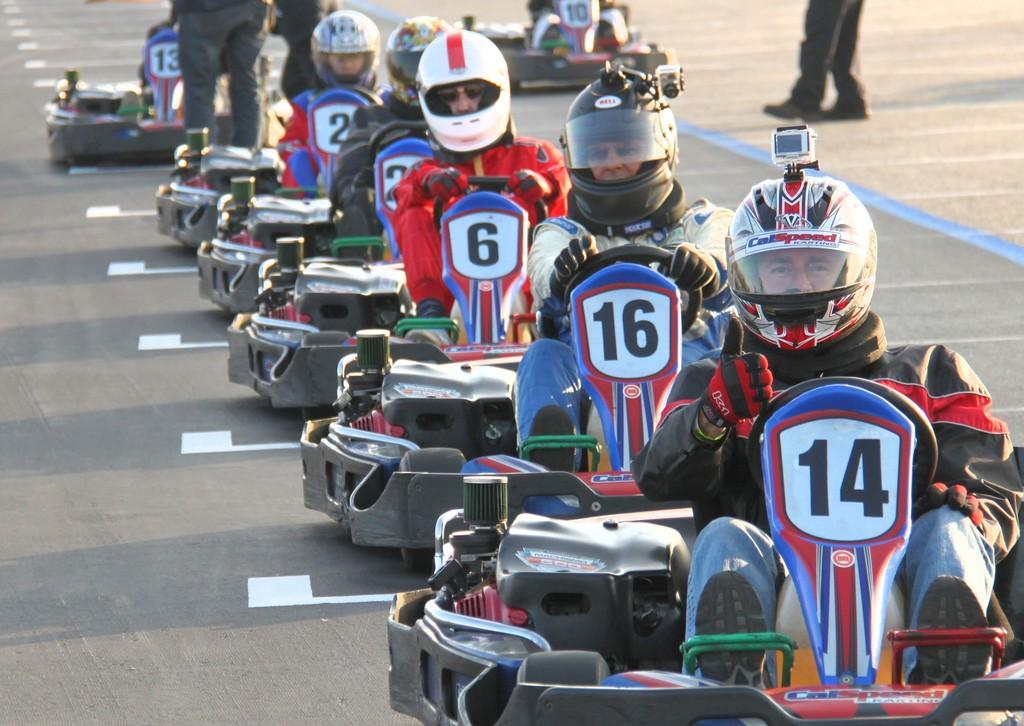helmet: (724, 176, 878, 355), (561, 75, 679, 227), (415, 30, 511, 155), (385, 15, 461, 108), (310, 10, 381, 95)
